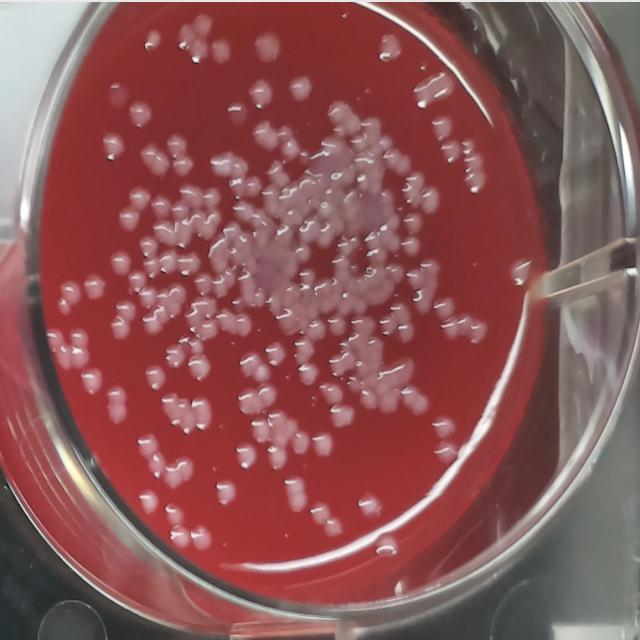Pseudoalteromonas: (250, 26, 284, 68)
